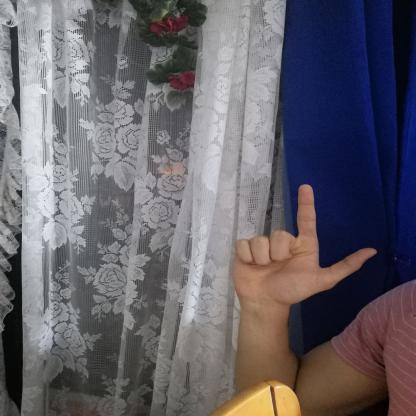LAAM: (218, 172, 390, 315)
